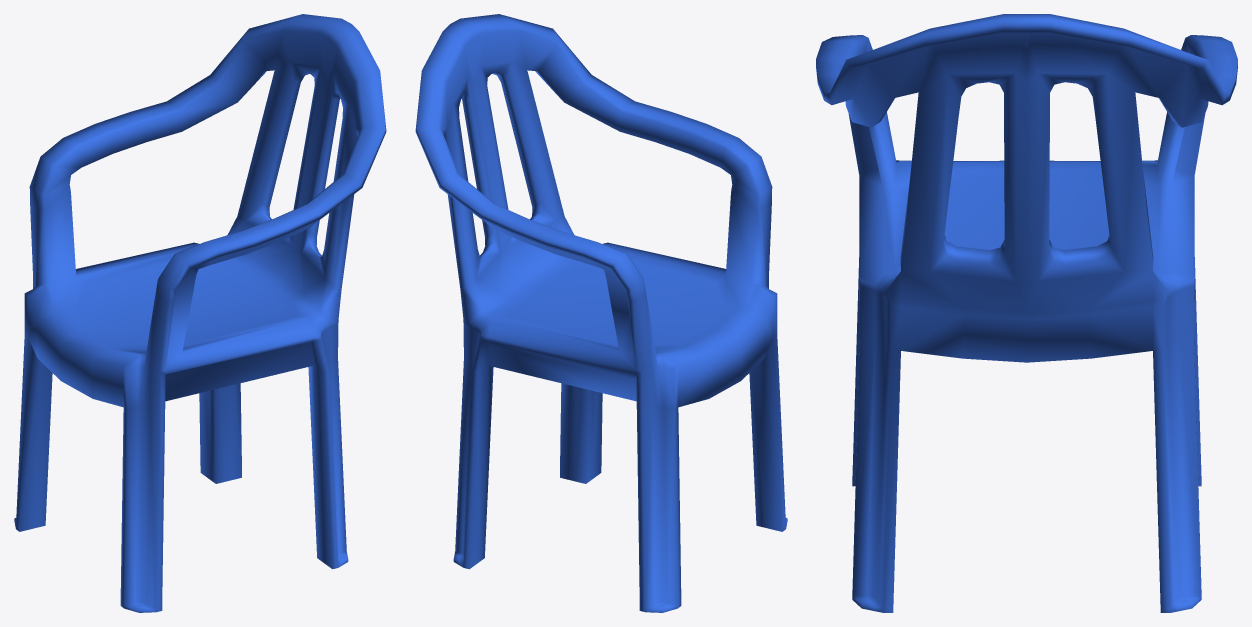
Rendered from silla_1.fbx.
The picture shows the model from 3 angles, left to right: view 1: azimuth 30°, elevation 25°; view 2: azimuth 150°, elevation 25°; view 3: azimuth 270°, elevation 25°; orthographic projection. The views are drawn at different scales.
Parts seen in each view (by area): view 1: Plane.001; view 2: Plane.001; view 3: Plane.001.
Boxes of the visible parts, box(x1,y1,x2,y2) form: Plane.001: box(14, 14, 386, 612); Plane.001: box(415, 14, 787, 612); Plane.001: box(816, 14, 1237, 612).
Size of the model in its own units: 6163 by 9630 by 5845.
